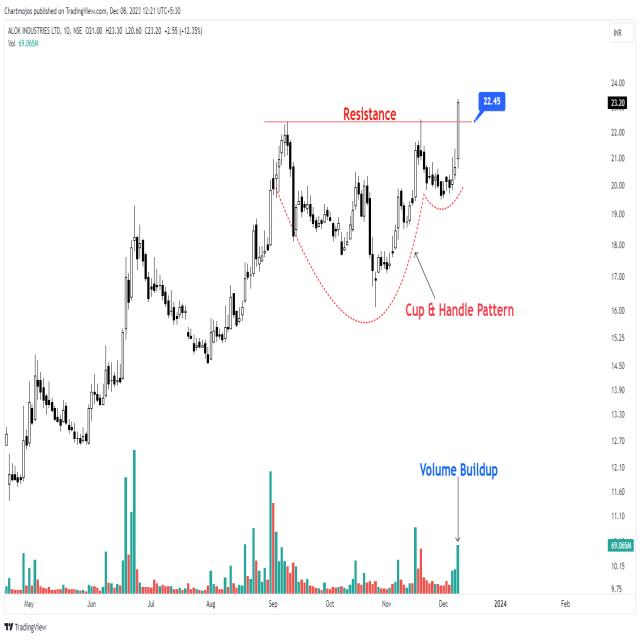Cup-and-handle: (266, 121, 470, 288)
